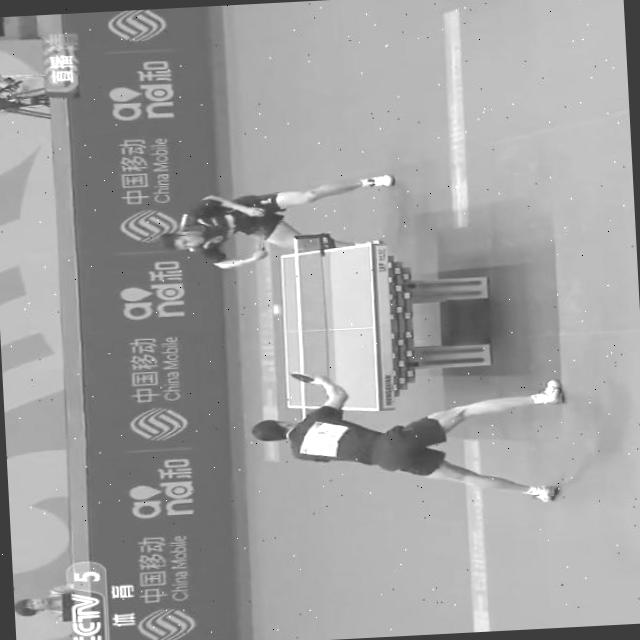ping-pong-ball: (268, 302, 285, 316)
